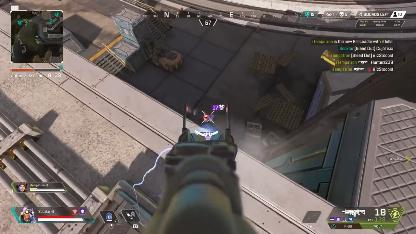Target: (200, 112, 214, 124)
